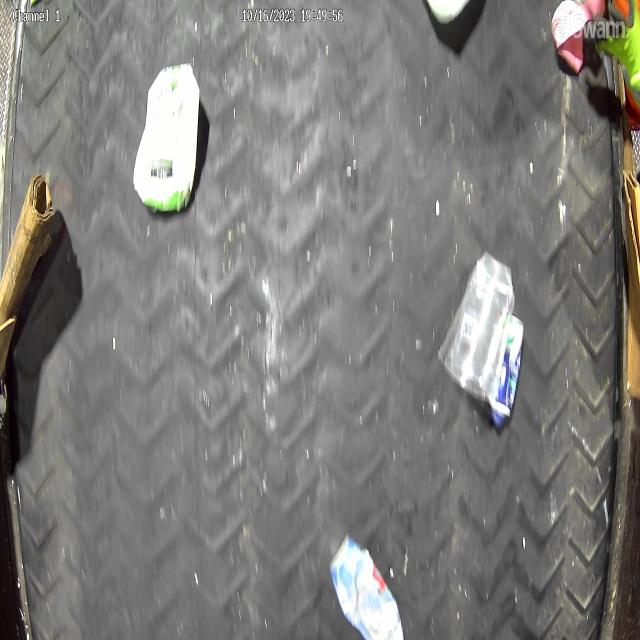non_white_jug: (132, 61, 201, 212)
